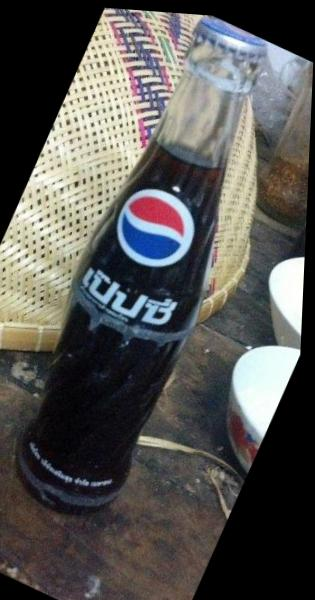glass: (0, 0, 315, 549)
